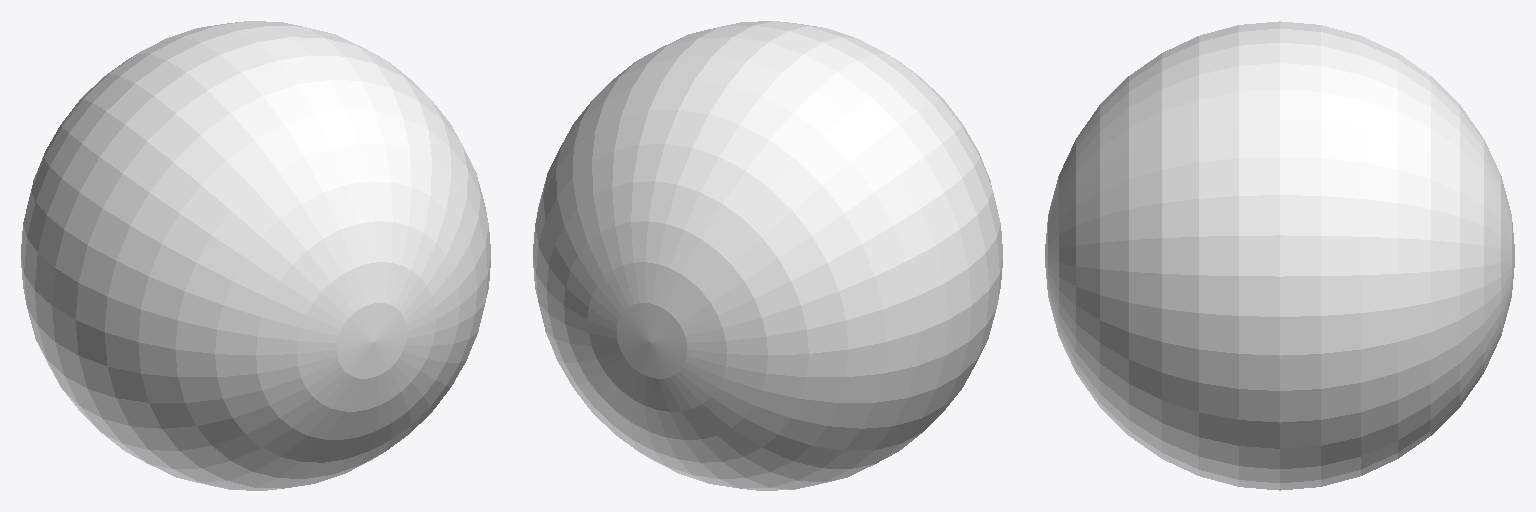
File: EarthModelMetric2Scale.obj
3 renders of one model, left to right at view 1: azimuth 30°, elevation 25°; view 2: azimuth 150°, elevation 25°; view 3: azimuth 270°, elevation 25°, orthographic.
Visible parts, largest first — view 1: sphere; view 2: sphere; view 3: sphere.
Boxes of the visible parts, x1,y1,x2,y2 form: sphere: [21, 21, 490, 490]; sphere: [533, 21, 1002, 490]; sphere: [1045, 21, 1514, 490].
Size of the model in its own units: 12756274 by 12756274 by 12756274.